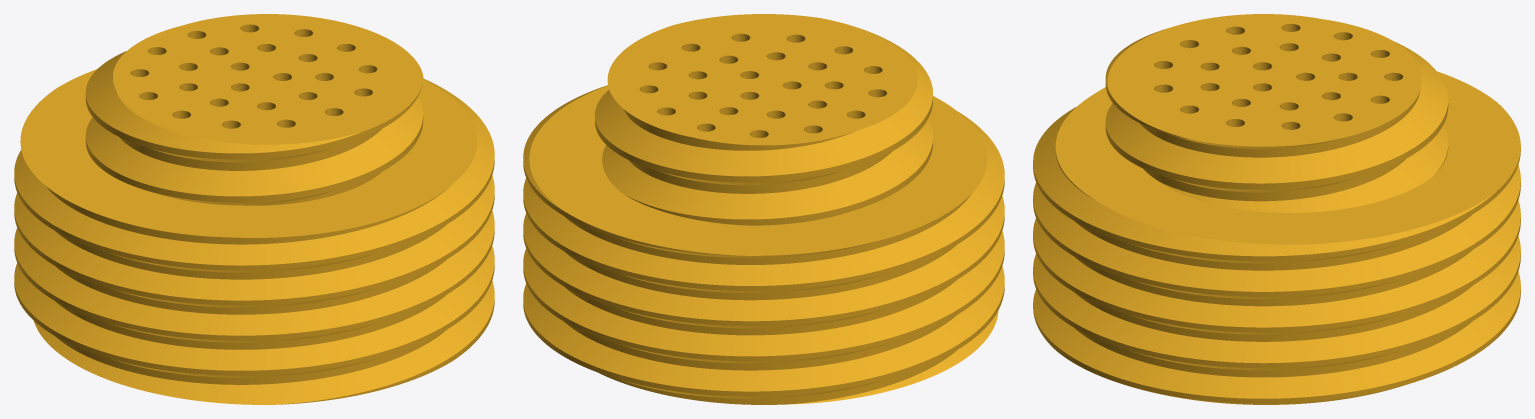
Rendered from Screen.obj.
3 renders of one model, left to right at view 1: azimuth 30°, elevation 25°; view 2: azimuth 150°, elevation 25°; view 3: azimuth 270°, elevation 25°, orthographic.
Parts seen in each view (by area): view 1: Body1; view 2: Body1; view 3: Body1.
Part boxes in pixels (bbox=[...]): Body1: bbox=[14, 14, 494, 404]; Body1: bbox=[523, 14, 1004, 404]; Body1: bbox=[1033, 14, 1520, 404].
Bounding box in the file's own units: 24.82 × 12.92 × 24.82.
